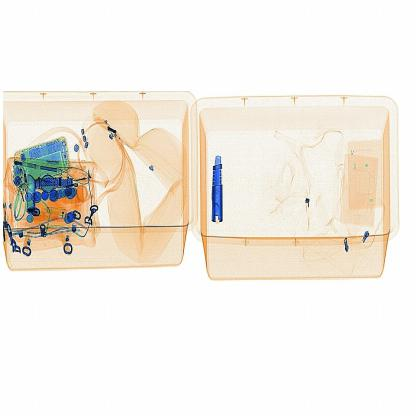pliers: (204, 142, 236, 232)
